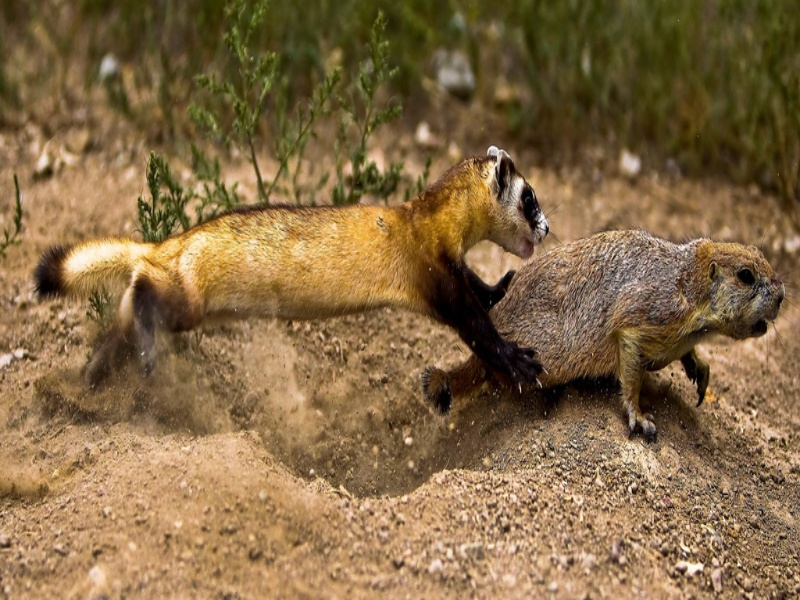minkish: (37, 137, 552, 422)
